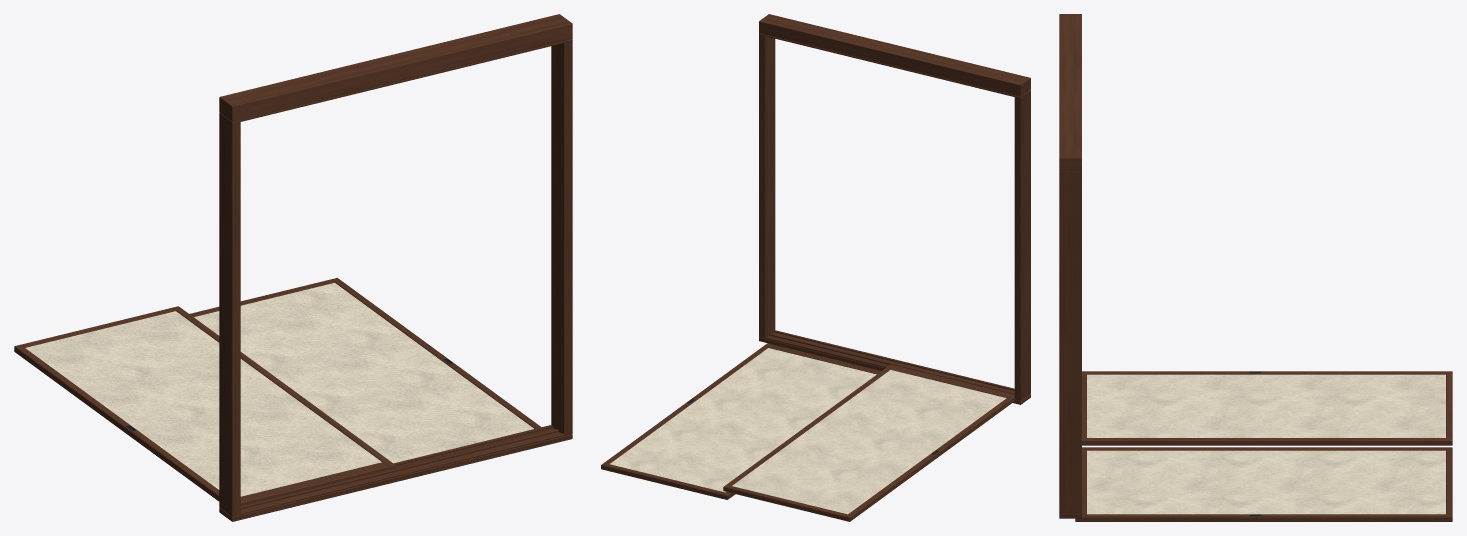
The model's file is LAY3_Shoji.fbx.
The picture shows the model from 3 angles, left to right: view 1: azimuth 30°, elevation 25°; view 2: azimuth 150°, elevation 25°; view 3: azimuth 270°, elevation 25°; orthographic projection. The views are drawn at different scales.
Visible parts, largest first — view 1: SM_14_Marco, SM_14_Panel_Trasero, SM_14_Panel_Delantero; view 2: SM_14_Panel_Trasero, SM_14_Marco, SM_14_Panel_Delantero; view 3: SM_14_Panel_Delantero, SM_14_Panel_Trasero, SM_14_Marco.
Boxes of the visible parts, box(x1,y1,x2,y2) form: SM_14_Marco: box(219, 14, 572, 521); SM_14_Panel_Trasero: box(14, 306, 395, 505); SM_14_Panel_Delantero: box(190, 278, 541, 463); SM_14_Panel_Trasero: box(723, 364, 1014, 521); SM_14_Marco: box(759, 14, 1030, 404); SM_14_Panel_Delantero: box(601, 343, 881, 499); SM_14_Panel_Delantero: box(1075, 447, 1452, 521); SM_14_Panel_Trasero: box(1082, 371, 1452, 445); SM_14_Marco: box(1059, 14, 1081, 518).
Bounding box in the file's own units: 1.8 × 2.14 × 2.08.
